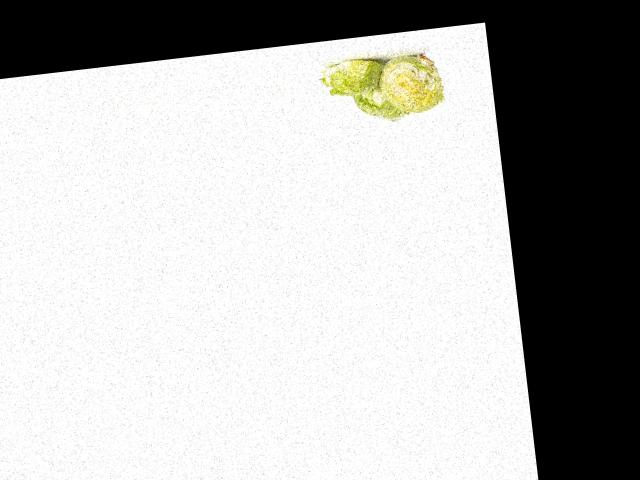lettuce: (346, 77, 416, 128)
